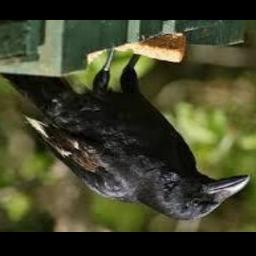Crow: (0, 45, 251, 221)
